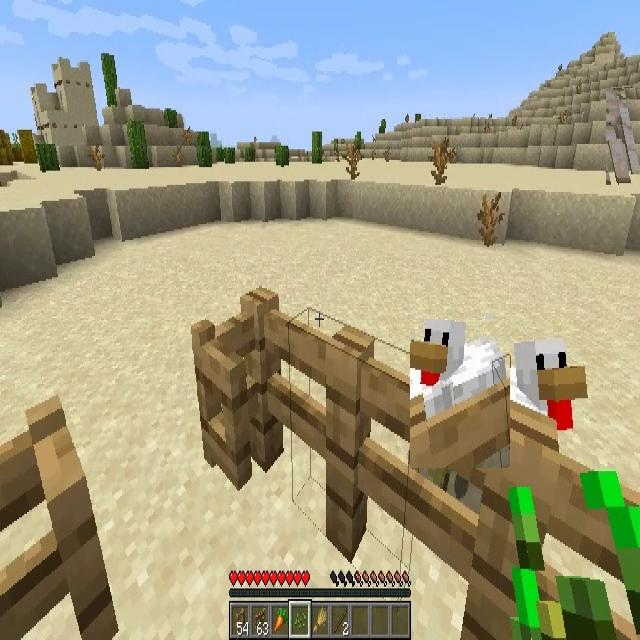duck: (410, 319, 510, 468), (487, 340, 587, 446)
people: (606, 88, 640, 185)
